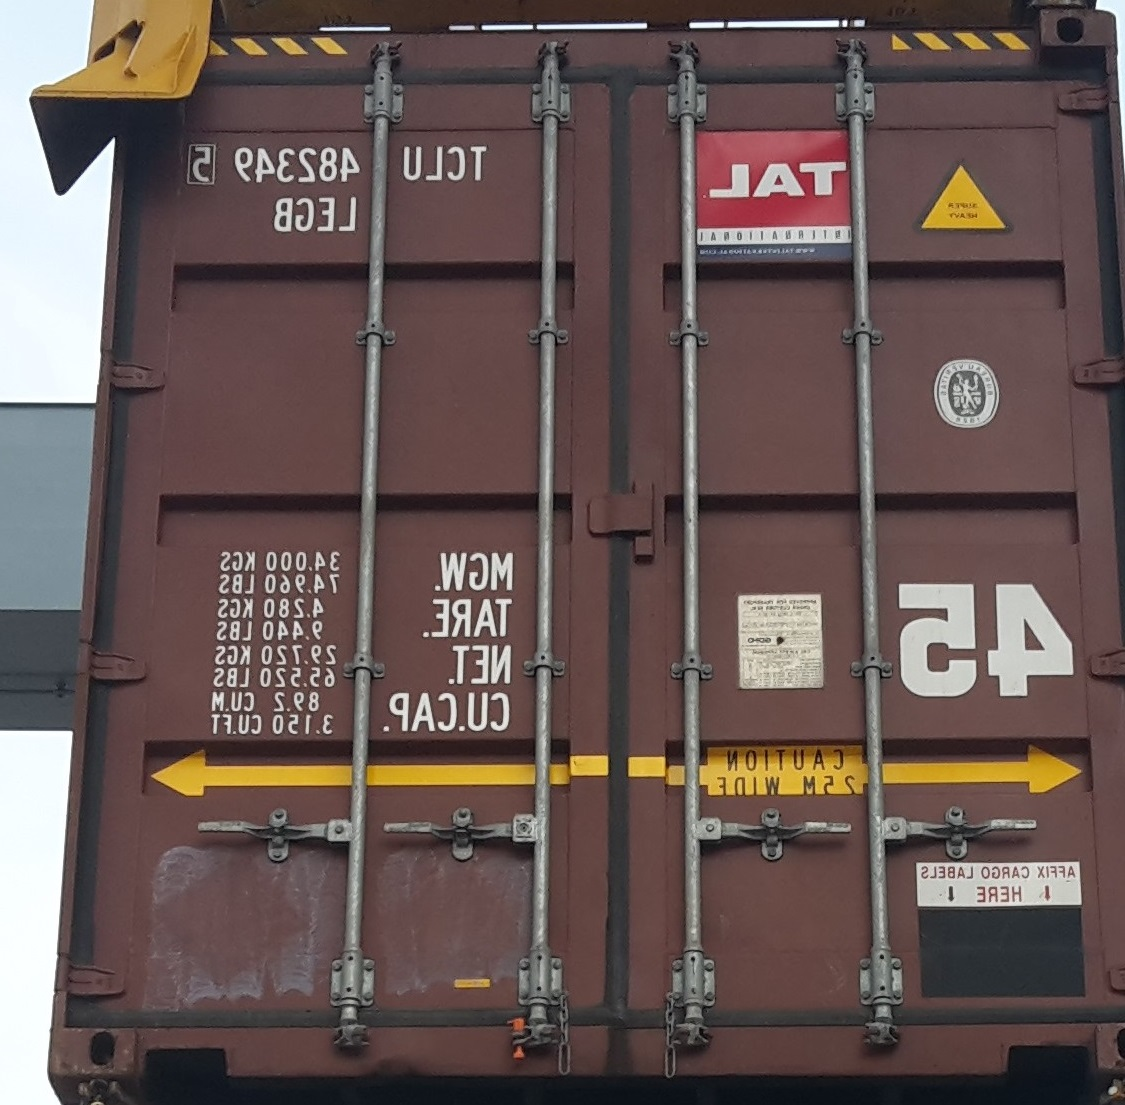container_door: (53, 9, 1115, 1084)
